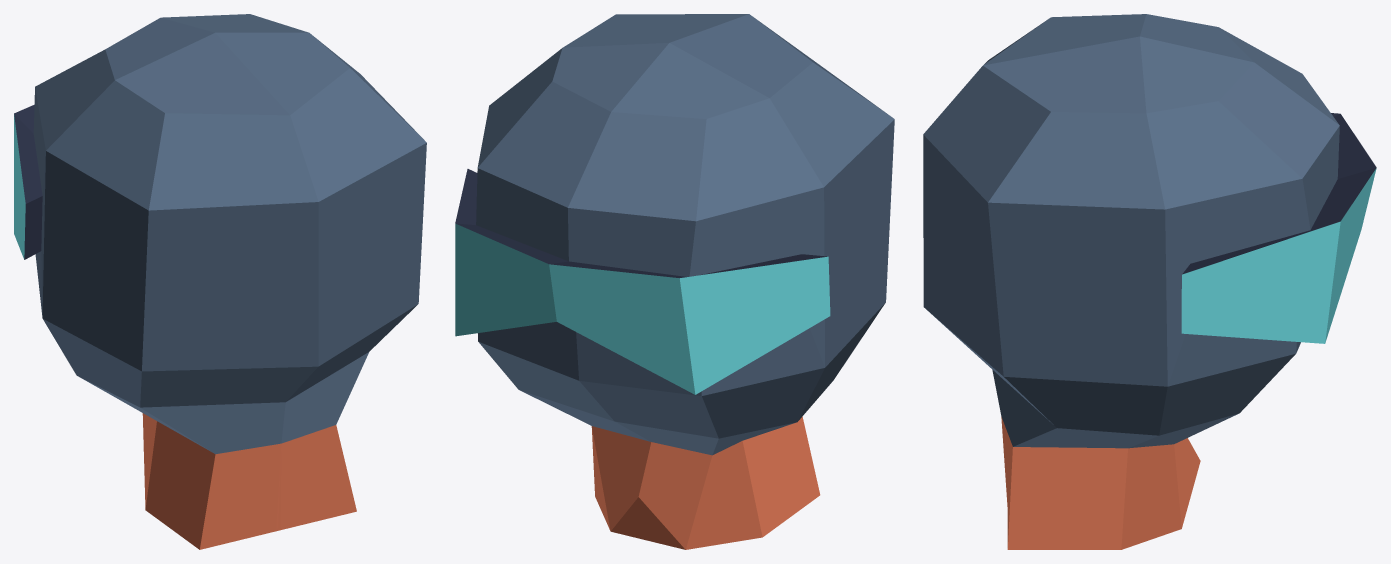
File: PlaerHaed.fbx
3 views of the same model, side by side, from view 1: azimuth 30°, elevation 25°; view 2: azimuth 150°, elevation 25°; view 3: azimuth 270°, elevation 25° (orthographic). The views are drawn at different scales.
Visible parts, largest first — view 1: Mesh; view 2: Mesh; view 3: Mesh.
Boxes of the visible parts, x1,y1,x2,y2 form: Mesh: (14,14,426,549); Mesh: (455,14,894,549); Mesh: (923,14,1376,549).
Bounding box in the file's own units: 37.09 × 42.82 × 33.84.
